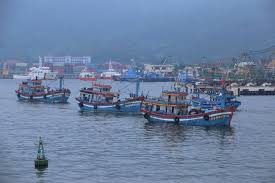tau_dansu: (138, 85, 231, 128), (76, 84, 148, 120), (16, 76, 71, 107)
